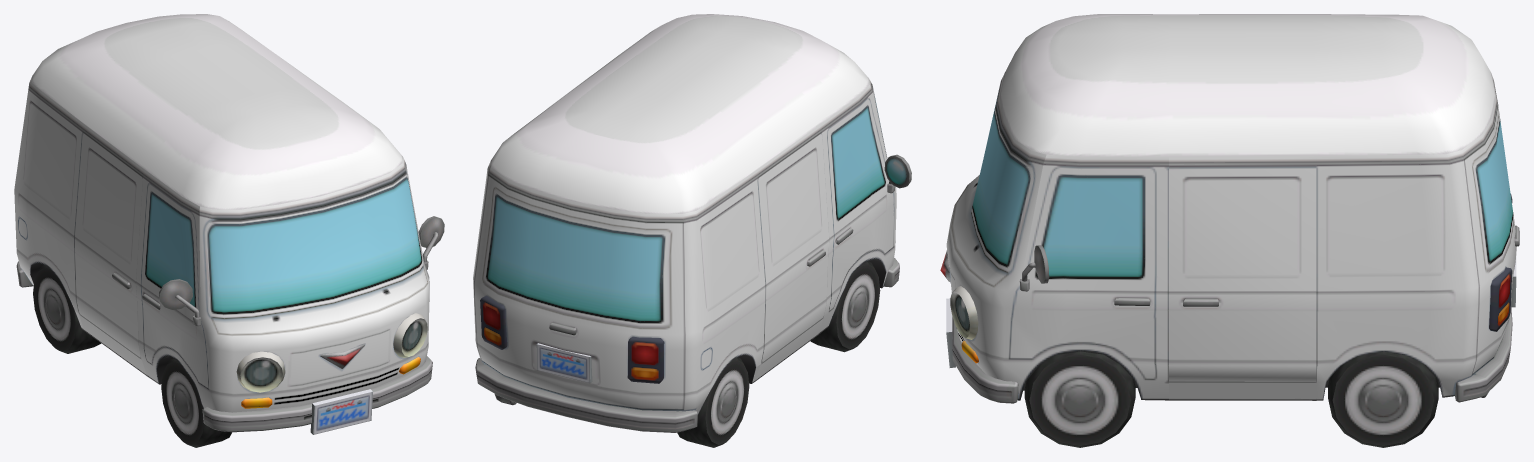
File: camper_1_vintage.fbx
3 renders of one model, left to right at view 1: azimuth 30°, elevation 25°; view 2: azimuth 150°, elevation 25°; view 3: azimuth 270°, elevation 25°, orthographic. The views are drawn at different scales.
Visible parts, largest first — view 1: camper_3; view 2: camper_3; view 3: camper_3.
Boxes of the visible parts, x1,y1,x2,y2 form: camper_3: (14,14,444,447); camper_3: (473,14,911,447); camper_3: (940,14,1519,447).
Bounding box in the file's own units: 166 × 165 × 248.
Materials: 2 (2 with a texture image).
